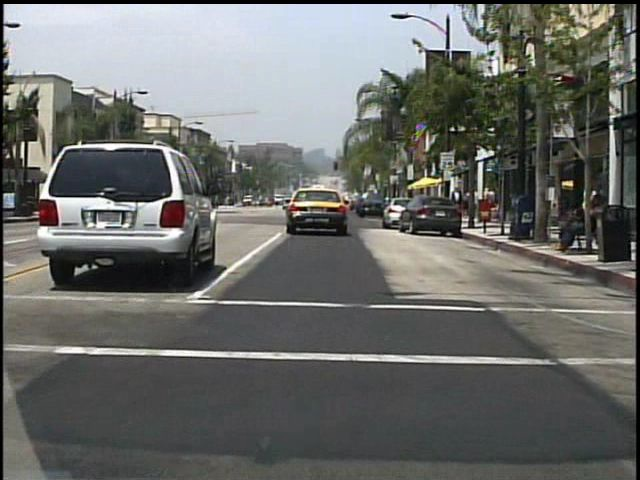person: (553, 200, 594, 258), (579, 176, 595, 237), (470, 181, 484, 218), (451, 183, 464, 220), (481, 185, 493, 219)
